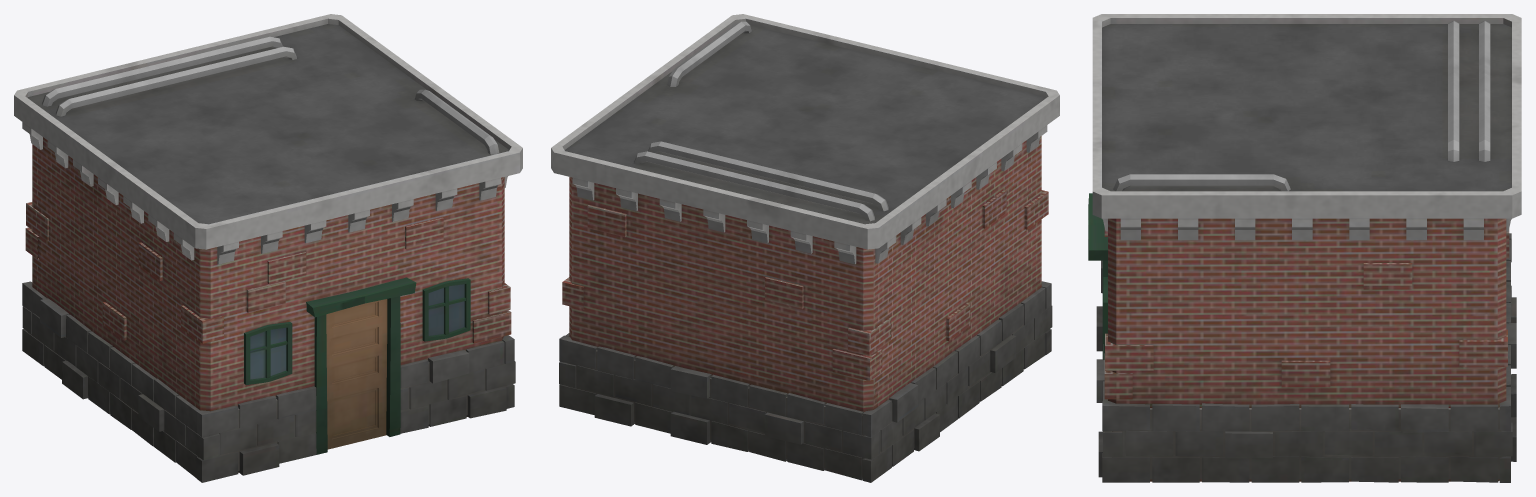
Rendered from 1Story.glb.
The picture shows the model from 3 angles, left to right: view 1: azimuth 30°, elevation 25°; view 2: azimuth 150°, elevation 25°; view 3: azimuth 270°, elevation 25°; orthographic projection. The views are drawn at different scales.
Visible parts, largest first — view 1: 1Story_medium; view 2: 1Story_medium; view 3: 1Story_medium.
Part boxes in pixels (x1=…): 1Story_medium: x1=14, y1=14, x2=522, y2=482; 1Story_medium: x1=551, y1=14, x2=1059, y2=482; 1Story_medium: x1=1088, y1=14, x2=1521, y2=482.
Bounding box in the file's own units: 2.15 × 1.67 × 2.17.
2 materials, 2 textured.
